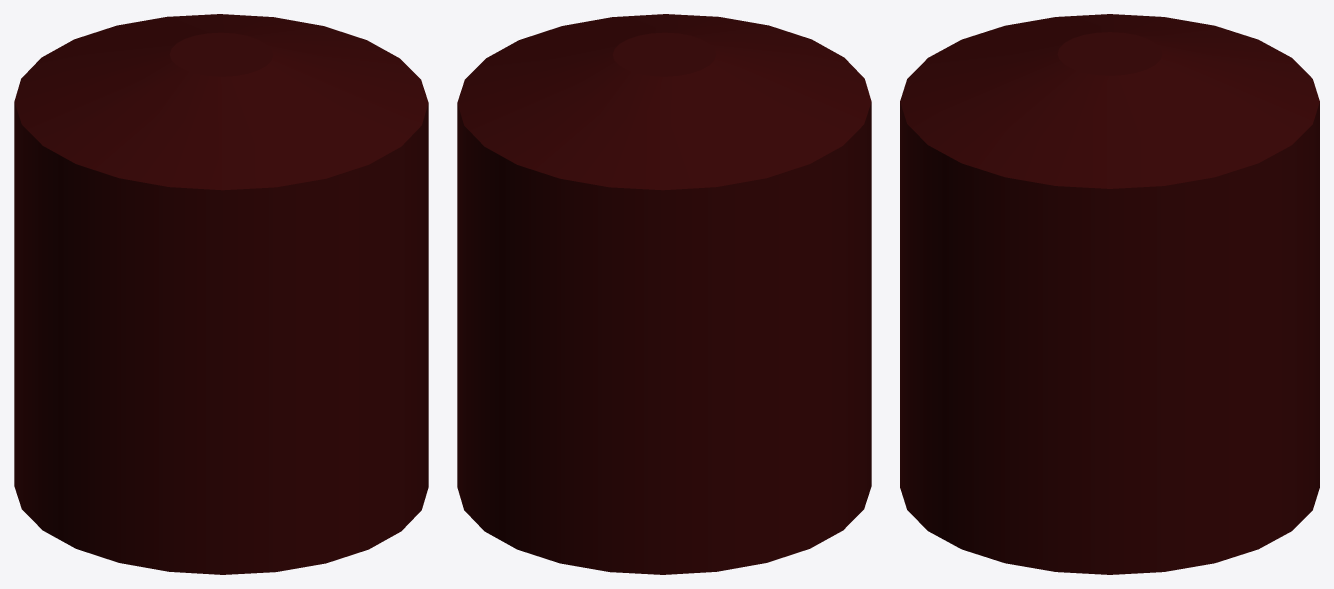
File: original-42.obj
3 views of the same model, side by side, from view 1: azimuth 30°, elevation 25°; view 2: azimuth 150°, elevation 25°; view 3: azimuth 270°, elevation 25° (orthographic).
Visible parts, largest first — view 1: ske74CA4/ske74CA/screw_07166-110_x_35/mesh9/mesh9-geometry#mesh9; view 2: ske74CA4/ske74CA/screw_07166-110_x_35/mesh9/mesh9-geometry#mesh9; view 3: ske74CA4/ske74CA/screw_07166-110_x_35/mesh9/mesh9-geometry#mesh9.
Boxes of the visible parts, x1,y1,x2,y2 form: ske74CA4/ske74CA/screw_07166-110_x_35/mesh9/mesh9-geometry#mesh9: (14, 14, 428, 574); ske74CA4/ske74CA/screw_07166-110_x_35/mesh9/mesh9-geometry#mesh9: (457, 14, 871, 574); ske74CA4/ske74CA/screw_07166-110_x_35/mesh9/mesh9-geometry#mesh9: (900, 14, 1319, 574).
Bounding box in the file's own units: 0.00426 × 0.00505 × 0.00432.
